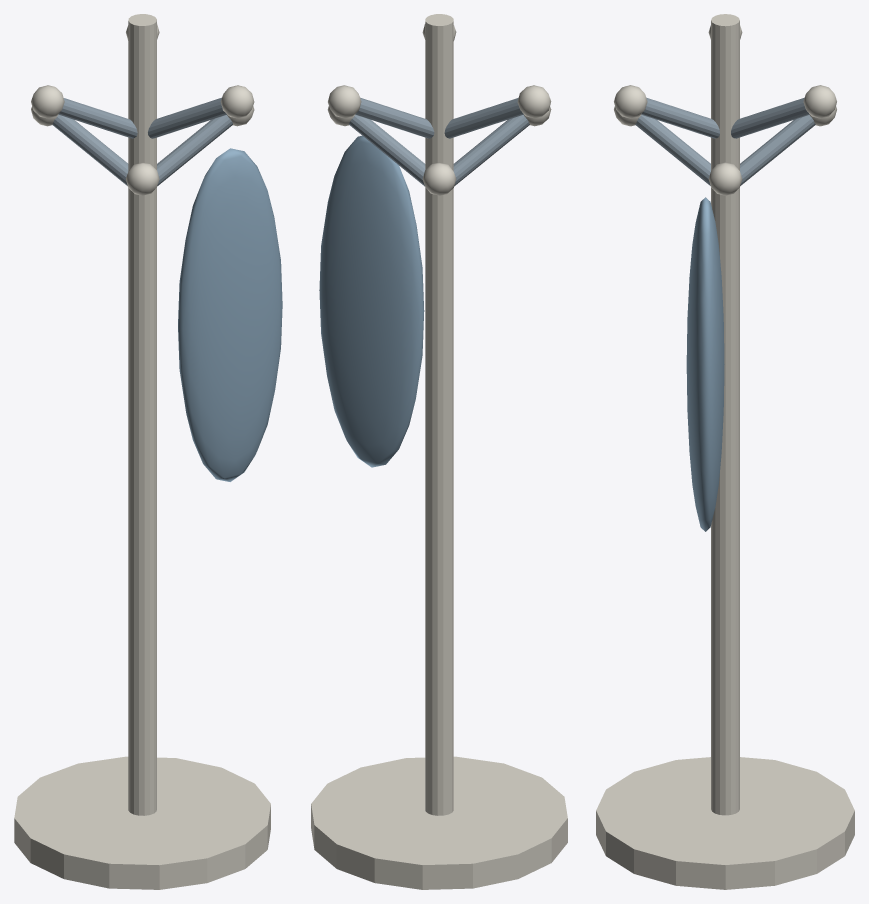
The model's file is coat_stand.glb.
The picture shows the model from 3 angles, left to right: view 1: azimuth 30°, elevation 25°; view 2: azimuth 150°, elevation 25°; view 3: azimuth 270°, elevation 25°; orthographic projection.
Parts seen in each view (by area): view 1: decor_aaa493_matte, decor_476a8a_fabric, decor_455665_metal; view 2: decor_aaa493_matte, decor_476a8a_fabric, decor_455665_metal; view 3: decor_aaa493_matte, decor_476a8a_fabric, decor_455665_metal.
Part boxes in pixels (x1=…): decor_aaa493_matte: x1=14, y1=14, x2=270, y2=889; decor_476a8a_fabric: x1=178, y1=148, x2=282, y2=481; decor_455665_metal: x1=52, y1=97, x2=232, y2=186; decor_aaa493_matte: x1=311, y1=14, x2=567, y2=889; decor_476a8a_fabric: x1=319, y1=135, x2=424, y2=467; decor_455665_metal: x1=349, y1=97, x2=529, y2=186; decor_aaa493_matte: x1=596, y1=14, x2=854, y2=889; decor_476a8a_fabric: x1=686, y1=197, x2=724, y2=531; decor_455665_metal: x1=635, y1=97, x2=815, y2=185.
Bounding box in the file's own units: 0.56 × 1.81 × 0.52.
